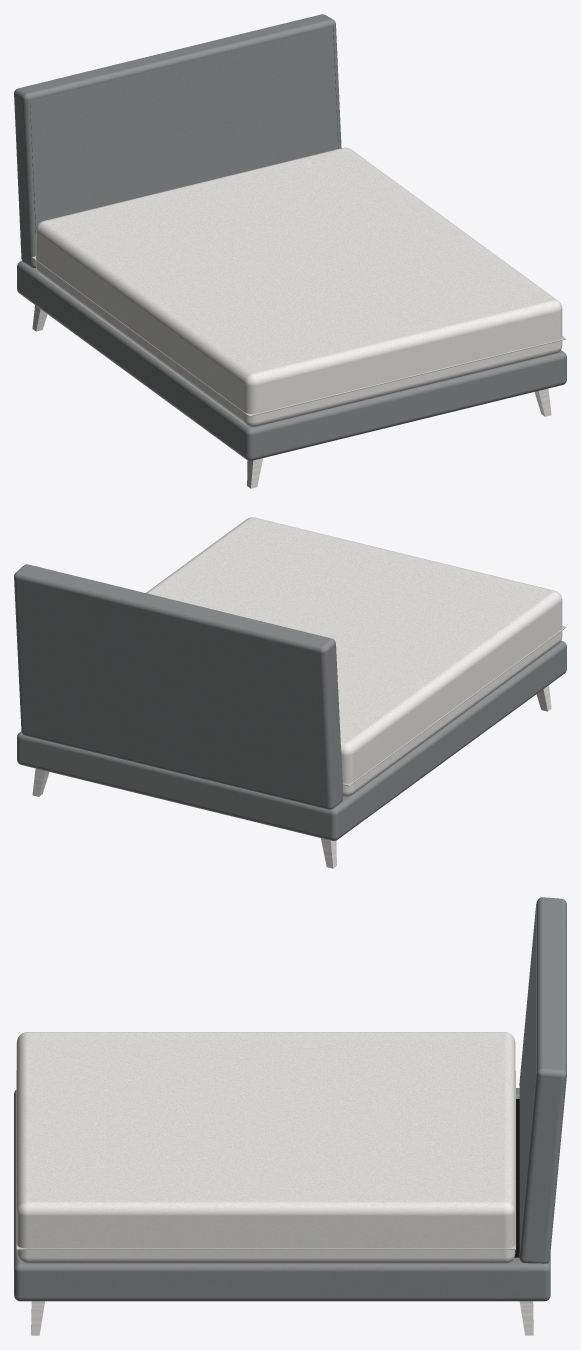
The model's file is ownEmma.glb.
The picture shows the model from 3 angles, top to bottom: view 1: azimuth 30°, elevation 25°; view 2: azimuth 150°, elevation 25°; view 3: azimuth 270°, elevation 25°; orthographic projection. The views are drawn at different scales.
Bounding box in the file's own units: 1.54 × 1.07 × 2.
7 materials, 5 textured.
